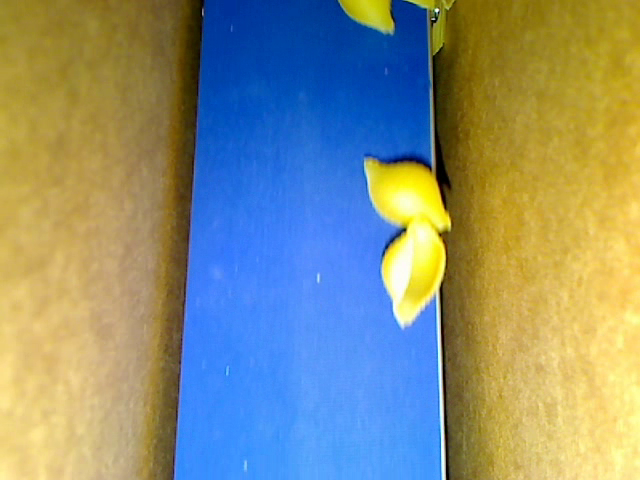penne: (427, 1, 445, 59), (442, 1, 457, 15)
shell: (375, 216, 445, 328), (363, 154, 452, 235), (337, 1, 396, 41)
